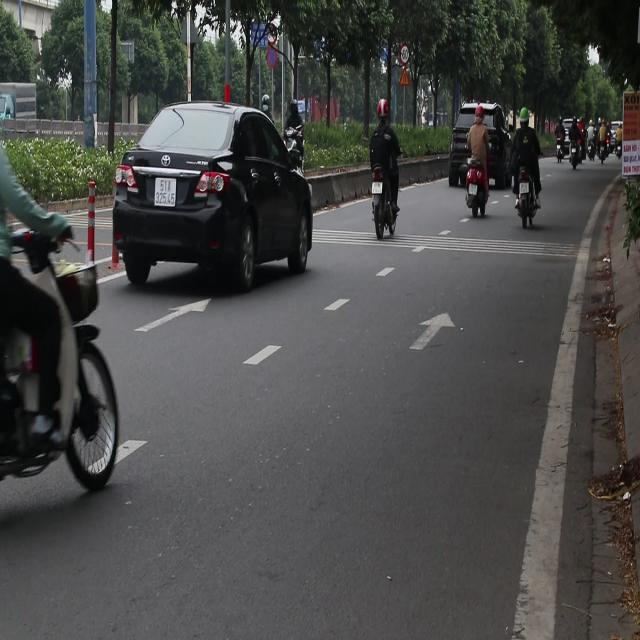car: (113, 102, 318, 293), (452, 103, 504, 147)
motorbike: (0, 201, 124, 524), (366, 163, 400, 235), (556, 124, 584, 168), (467, 166, 489, 221), (282, 124, 304, 176), (518, 171, 534, 233), (554, 124, 568, 163), (586, 122, 596, 165), (598, 124, 603, 174)
truck: (0, 73, 40, 160)
